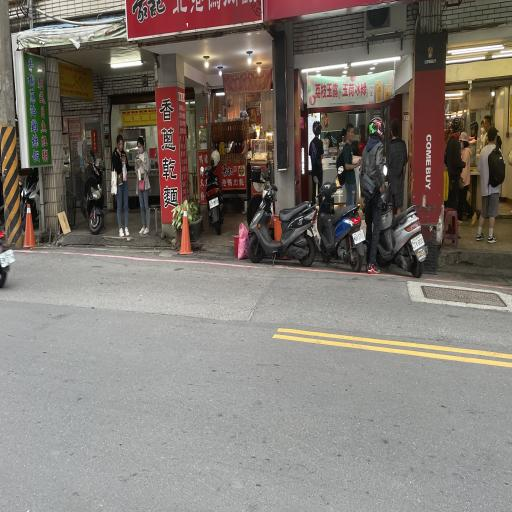redline: (3, 237, 511, 295)
